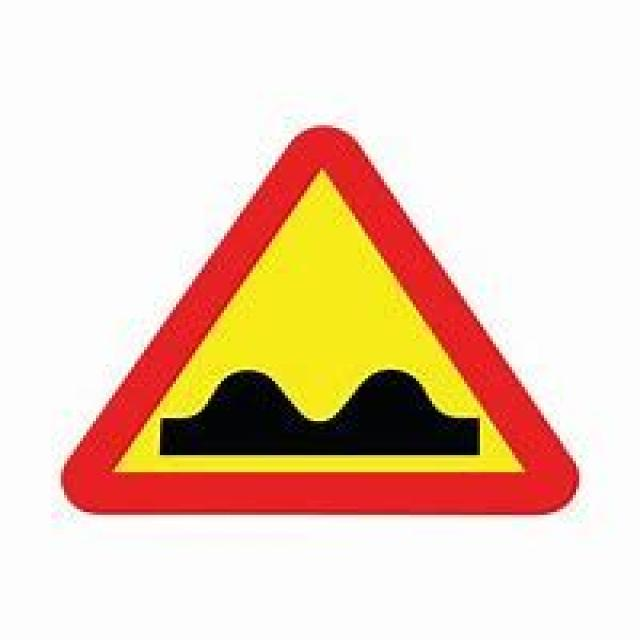BUMPS: (49, 120, 582, 524)
